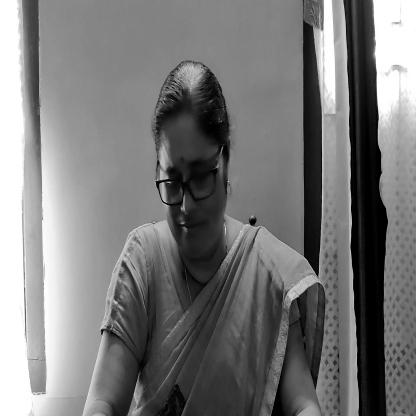Normal: (158, 67, 232, 261)
